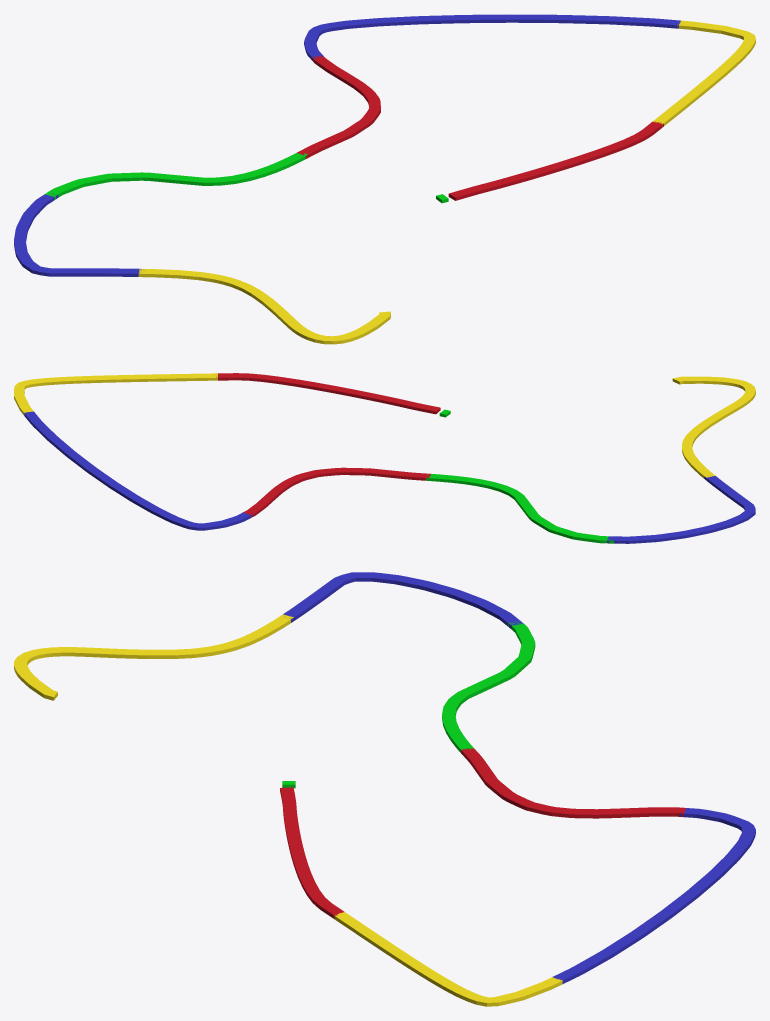
The model's file is Szines_palya_keskeny_szele_nelkul_006.dae.
3 views of the same model, one above another, from view 1: azimuth 30°, elevation 25°; view 2: azimuth 150°, elevation 25°; view 3: azimuth 270°, elevation 25° (orthographic). The views are drawn at different scales.
Visible parts, largest first — view 1: Cube.003, Cube.007, Cube.005, Cube.001, Cube.002, Cube.006, Cube.004; view 2: Cube.003, Cube.007, Cube.002, Cube.001, Cube.006, Cube.005, Cube.004; view 3: Cube.003, Cube.007, Cube.002, Cube.006, Cube.004, Cube.005, Cube.001.
Boxes of the visible parts, x1,y1,x2,y2 form: Cube.003: [304, 14, 680, 61]; Cube.007: [138, 268, 390, 344]; Cube.005: [45, 153, 307, 199]; Cube.001: [448, 121, 663, 200]; Cube.002: [653, 20, 755, 126]; Cube.006: [14, 193, 143, 276]; Cube.004: [297, 55, 380, 158]; Cube.003: [24, 411, 253, 530]; Cube.007: [672, 376, 755, 478]; Cube.002: [14, 373, 217, 415]; Cube.001: [216, 373, 440, 414]; Cube.006: [607, 476, 755, 543]; Cube.005: [426, 474, 613, 543]; Cube.004: [243, 467, 430, 517]; Cube.003: [552, 808, 755, 984]; Cube.007: [14, 614, 293, 700]; Cube.002: [333, 912, 562, 1006]; Cube.006: [283, 572, 523, 629]; Cube.004: [461, 748, 685, 818]; Cube.005: [442, 620, 535, 752]; Cube.001: [280, 787, 344, 918].
Bounding box in the file's own units: 44.93 × 32.69 × 0.1781.
